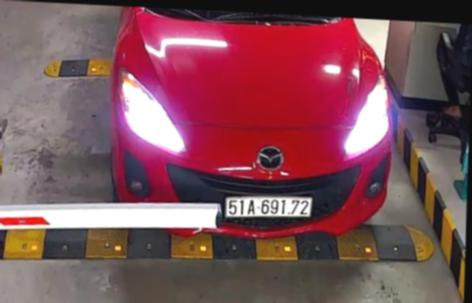License_Plate: (222, 194, 314, 220)
